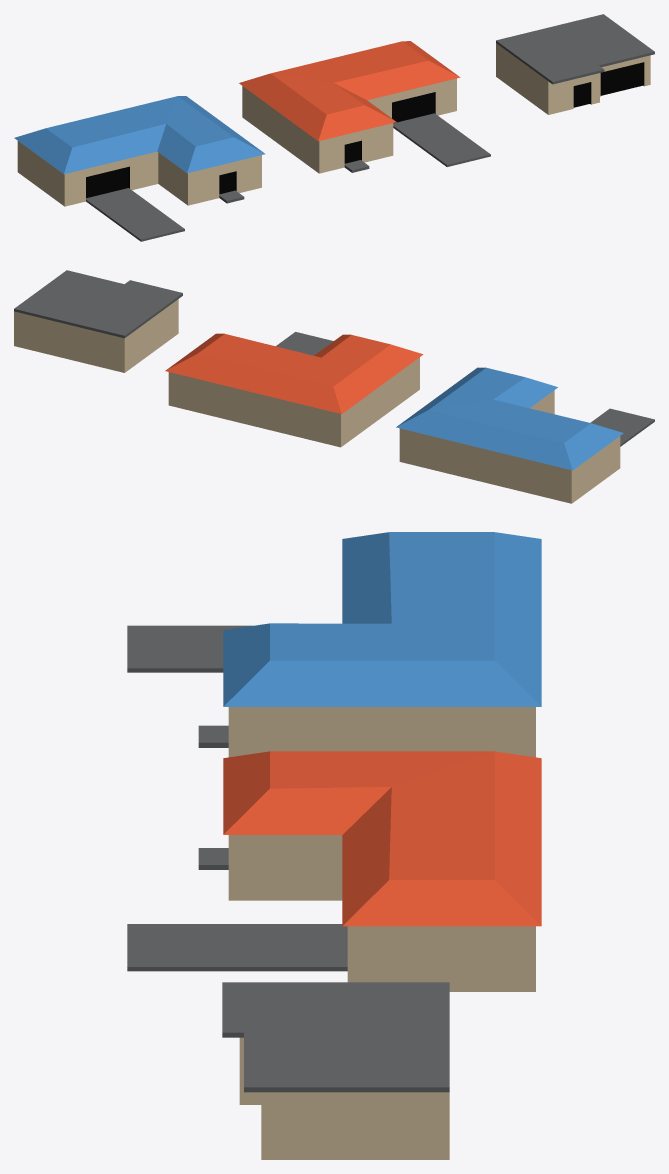
The model's file is modernBuildings.fbx.
3 views of the same model, one above another, from view 1: azimuth 30°, elevation 25°; view 2: azimuth 150°, elevation 25°; view 3: azimuth 270°, elevation 25° (orthographic). The views are drawn at different scales.
Visible parts, largest first — view 1: SuburbanHouse_1, SuburbanHouse_0, StorageUnit_0; view 2: SuburbanHouse_0, SuburbanHouse_1, StorageUnit_0; view 3: SuburbanHouse_0, SuburbanHouse_1, StorageUnit_0.
Part boxes in pixels (x1,y1,x2,y2): SuburbanHouse_1: (14,96,265,241); SuburbanHouse_0: (239,41,490,173); StorageUnit_0: (496,14,654,114); SuburbanHouse_0: (165,332,423,447); SuburbanHouse_1: (396,367,654,503); StorageUnit_0: (14,270,182,372); SuburbanHouse_0: (127,751,541,991); SuburbanHouse_1: (127,532,541,757); StorageUnit_0: (222,982,449,1159).
Bounding box in the file's own units: 75.73 × 6.07 × 23.96.
